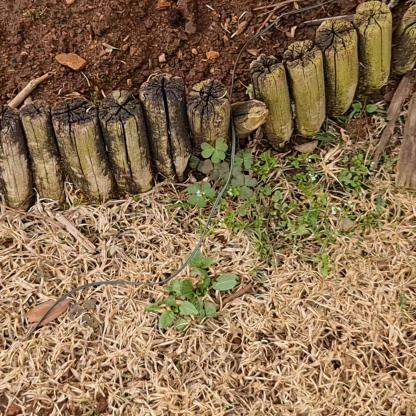Weeds: (145, 252, 240, 330), (185, 137, 260, 207)
